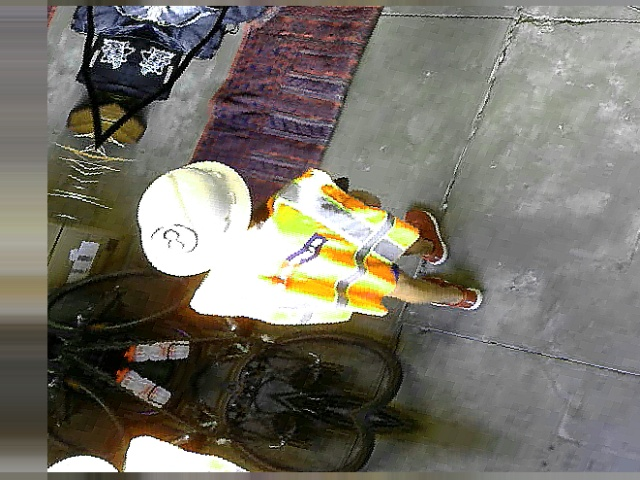eight: (143, 218, 204, 259)
